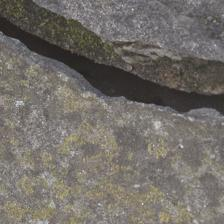Crack: (5, 10, 221, 124)
